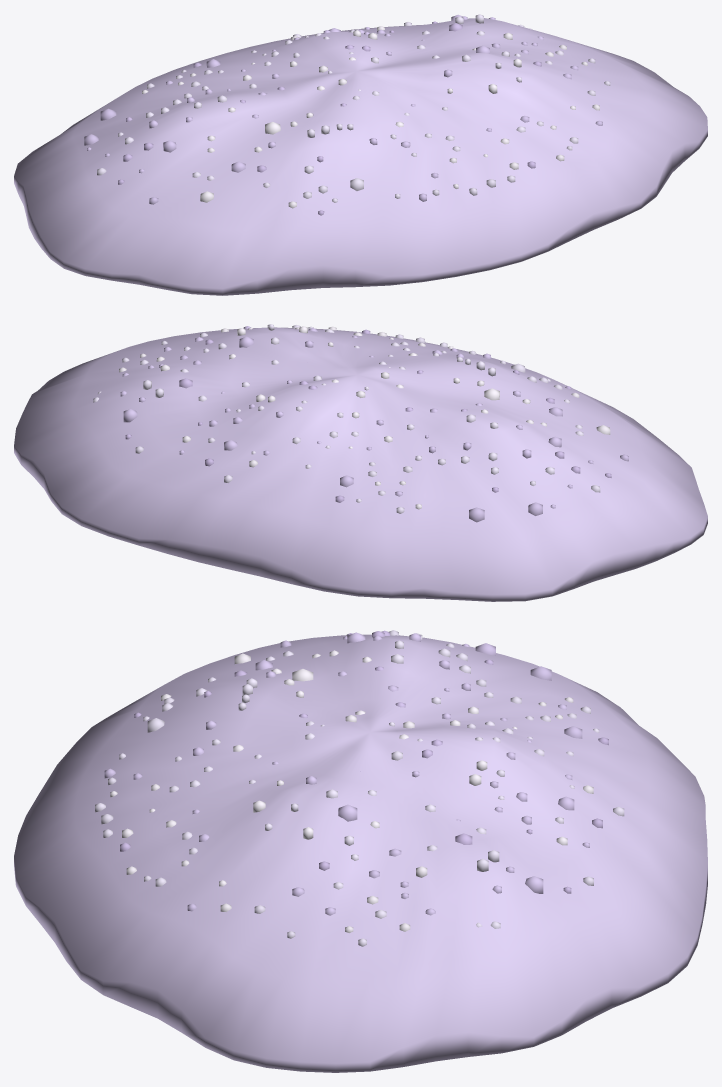
File: coarse-sugar-mound.glb
3 views of the same model, one above another, from view 1: azimuth 30°, elevation 25°; view 2: azimuth 150°, elevation 25°; view 3: azimuth 270°, elevation 25° (orthographic). The views are drawn at different scales.
Parts seen in each view (by area): view 1: Coarse scalloped sugar mound with embedded grains; view 2: Coarse scalloped sugar mound with embedded grains; view 3: Coarse scalloped sugar mound with embedded grains.
Boxes of the visible parts, x1=… form: Coarse scalloped sugar mound with embedded grains: x1=14, y1=14, x2=707, y2=295; Coarse scalloped sugar mound with embedded grains: x1=14, y1=324, x2=707, y2=601; Coarse scalloped sugar mound with embedded grains: x1=14, y1=630, x2=707, y2=1072.
Size of the model in its own units: 4.89 by 0.773 by 3.46.
